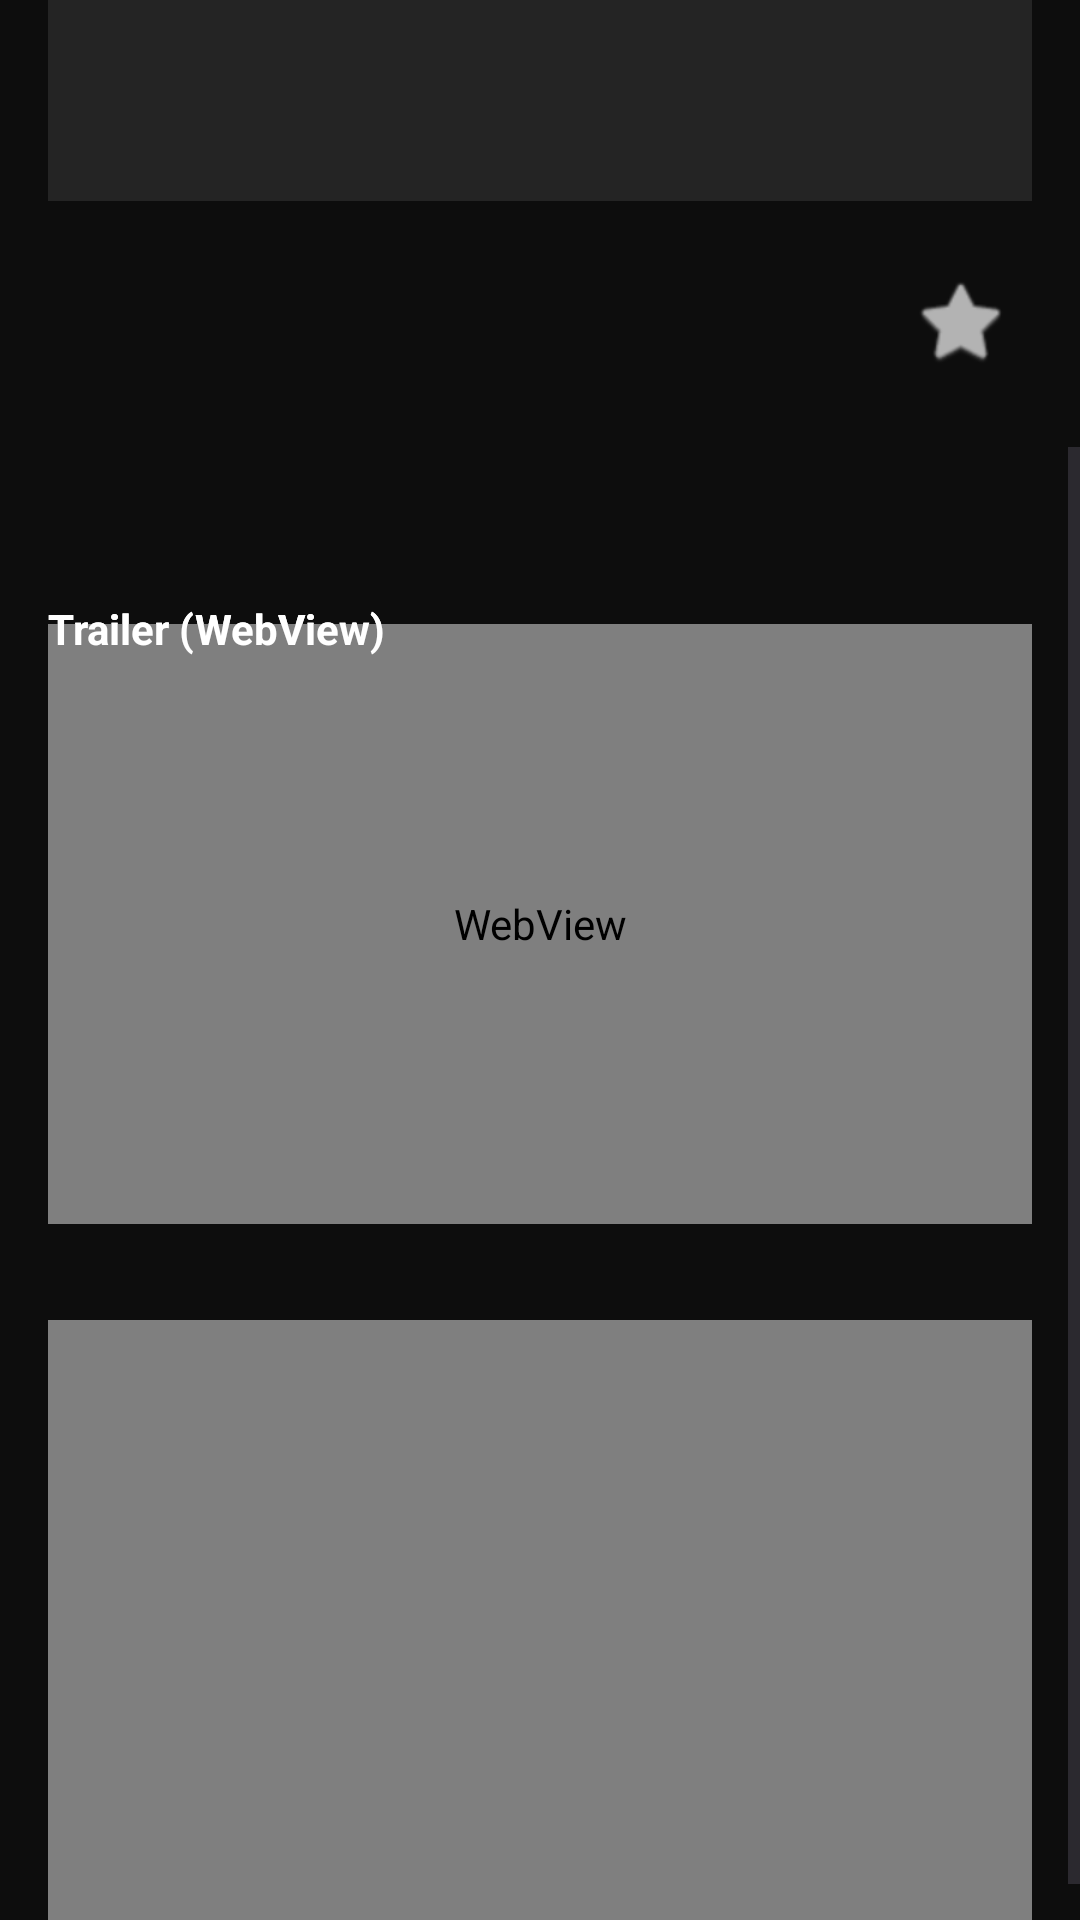

Icon click points for this 1080px×1920px phone screenshot, format point (x, y):
star off: point (961, 321)
